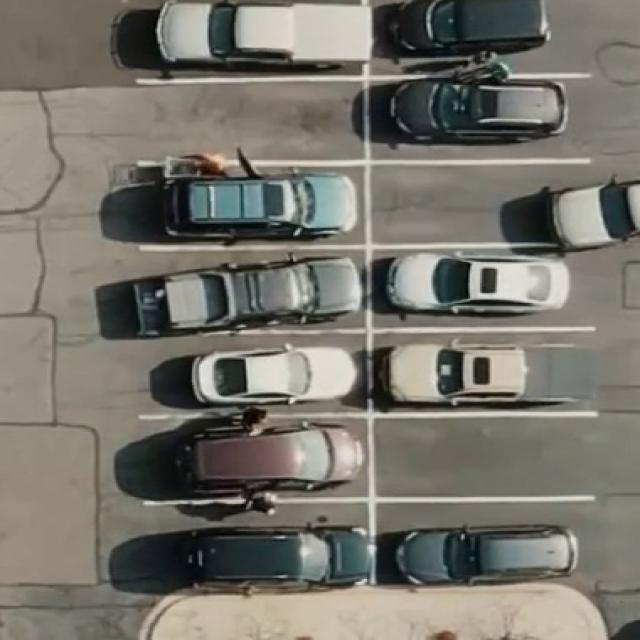empty: (141, 88, 356, 156), (379, 424, 585, 492)
notEmpty: (142, 254, 362, 327), (380, 335, 596, 408), (374, 253, 592, 325), (162, 511, 365, 586), (144, 2, 354, 74), (381, 509, 585, 583), (376, 169, 583, 241), (154, 423, 366, 493), (142, 173, 360, 240), (158, 339, 360, 411), (380, 3, 588, 71), (378, 85, 590, 151)
